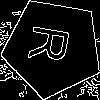R: (28, 22, 79, 67)
